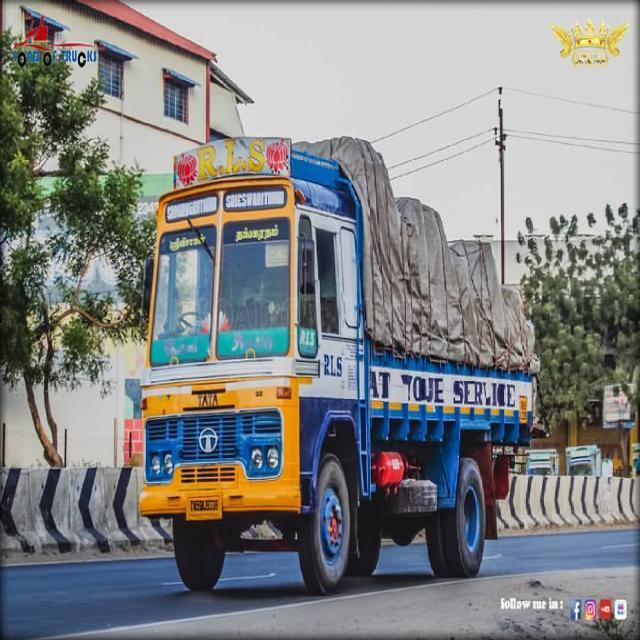Truck: (138, 131, 540, 598)
